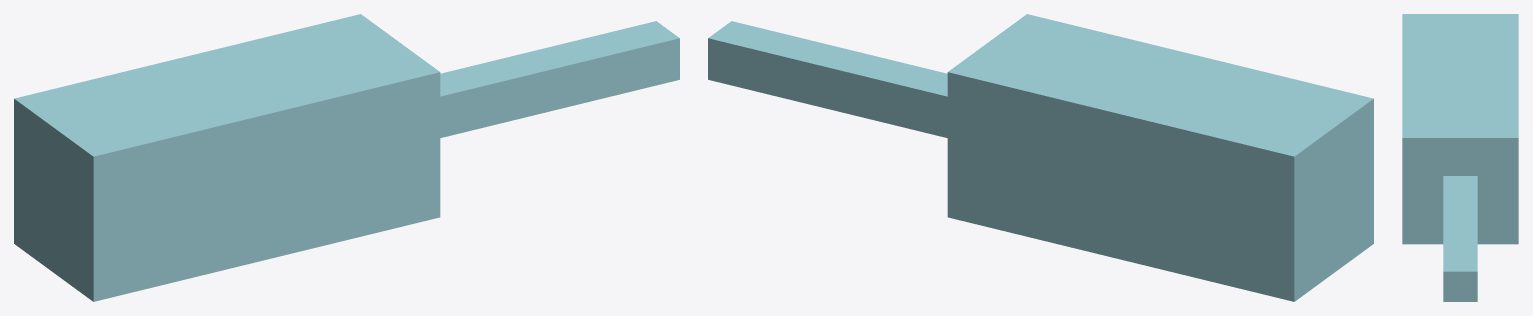
Rendered from cuboid_screwdriver_v2015.obj.
3 views of the same model, side by side, from view 1: azimuth 30°, elevation 25°; view 2: azimuth 150°, elevation 25°; view 3: azimuth 270°, elevation 25° (orthographic). The views are drawn at different scales.
Bounding box in the file's own units: 0.1687 × 0.0381 × 0.0378.
Materials: 1 (1 with a texture image).
